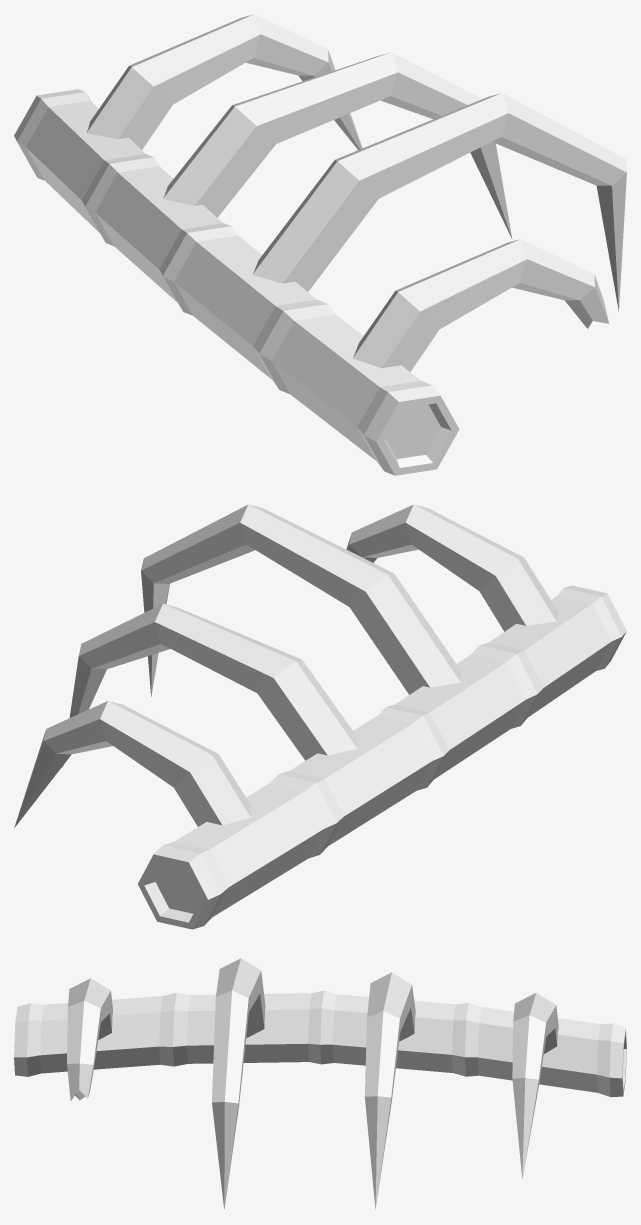
The model's file is Bones_2.fbx.
3 views of the same model, one above another, from view 1: azimuth 30°, elevation 25°; view 2: azimuth 150°, elevation 25°; view 3: azimuth 270°, elevation 25° (orthographic). The views are drawn at different scales.
Parts seen in each view (by area): view 1: Bones_2; view 2: Bones_2; view 3: Bones_2.
Boxes of the visible parts, box(x1,y1,x2,y2) form: Bones_2: box(14, 14, 626, 475); Bones_2: box(14, 504, 626, 929); Bones_2: box(14, 958, 626, 1209).
Size of the model in its own units: 94.48 by 169 by 55.24.
